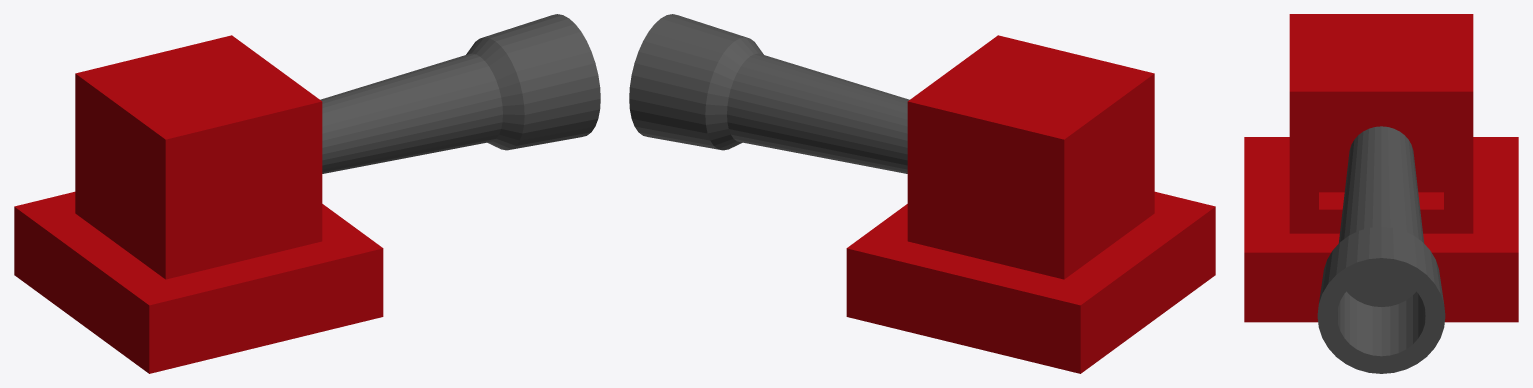
The model's file is tank_head.glb.
3 views of the same model, side by side, from view 1: azimuth 30°, elevation 25°; view 2: azimuth 150°, elevation 25°; view 3: azimuth 270°, elevation 25° (orthographic).
Parts seen in each view (by area): view 1: Cube, Cylinder.003; view 2: Cube, Cylinder.003; view 3: Cube, Cylinder.003.
Boxes of the visible parts, bbox=[...] form: Cube: bbox=[14, 35, 383, 373]; Cylinder.003: bbox=[320, 14, 600, 173]; Cube: bbox=[846, 35, 1215, 373]; Cylinder.003: bbox=[629, 14, 909, 173]; Cube: bbox=[1244, 14, 1518, 322]; Cylinder.003: bbox=[1317, 126, 1445, 373].
Size of the model in its own units: 1.82 by 0.7436 by 0.8736.
